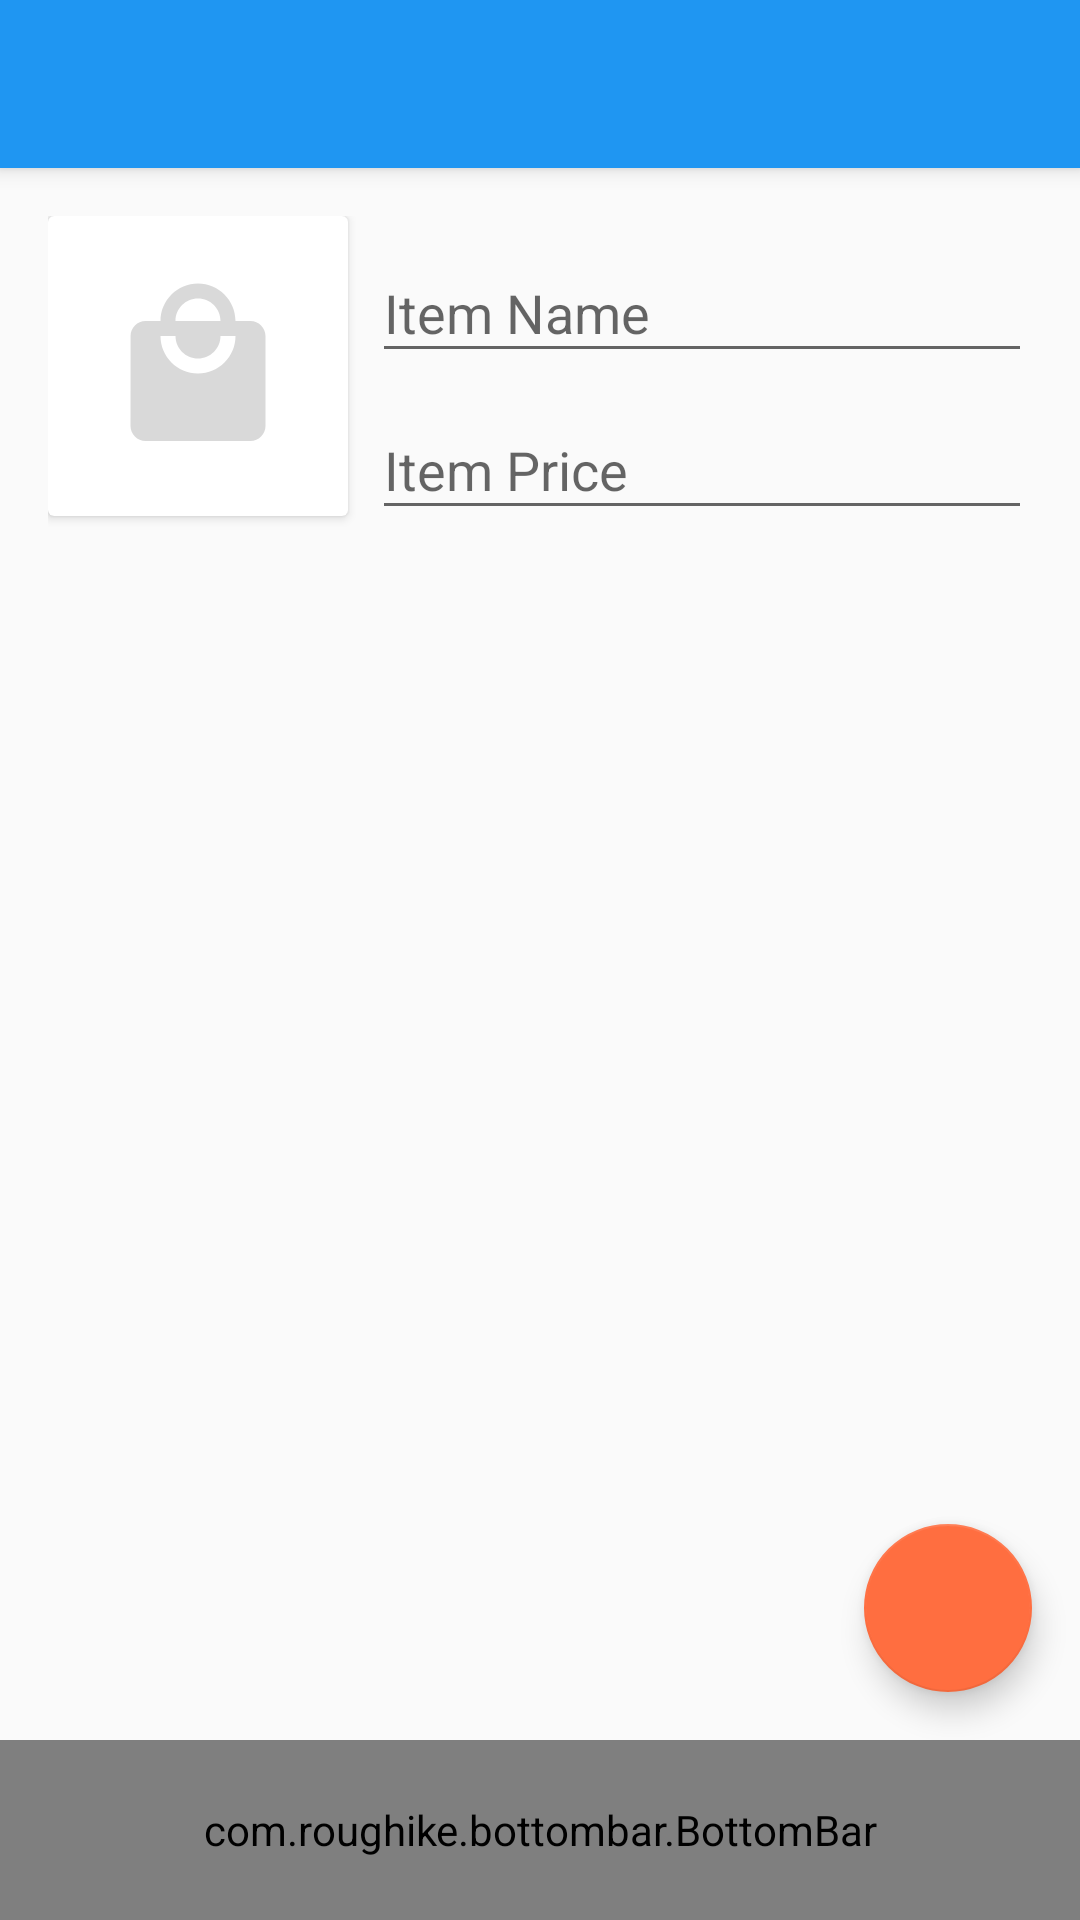

Named icons in this screenshot (1080x1920) and their centers, [x,y]:
mall bag: [198,362]
